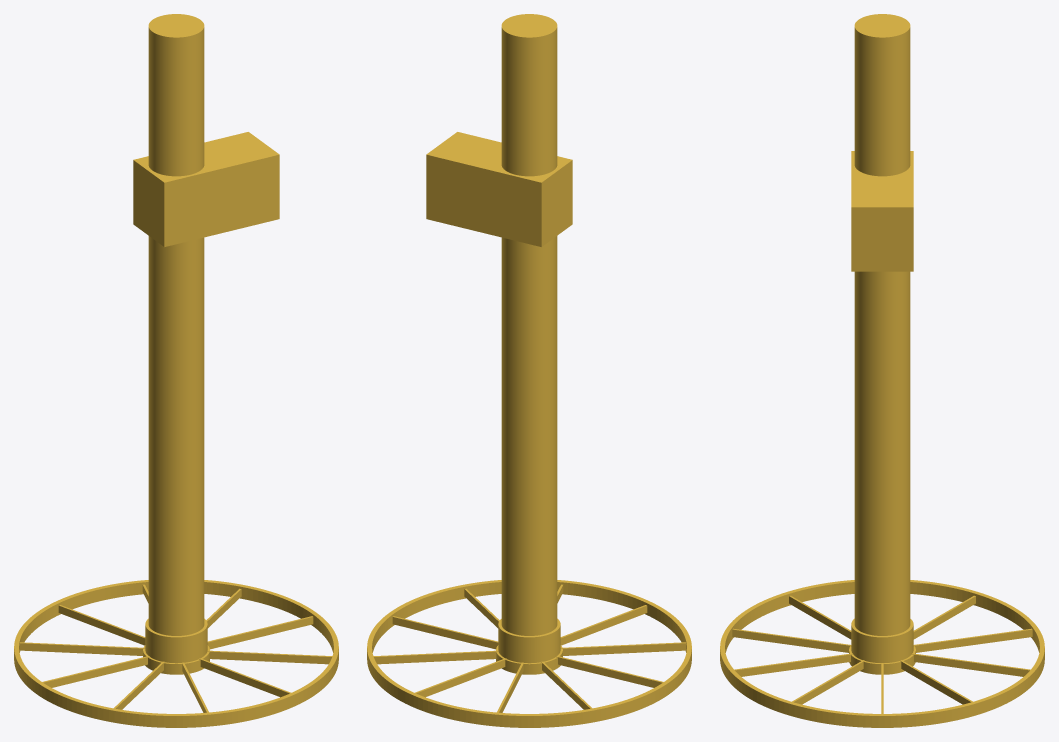
Rendered from telescope_lower.glb.
3 views of the same model, side by side, from view 1: azimuth 30°, elevation 25°; view 2: azimuth 150°, elevation 25°; view 3: azimuth 270°, elevation 25° (orthographic).
Visible parts, largest first — view 1: Cylinder; view 2: Cylinder; view 3: Cylinder.
Part boxes in pixels (bbox=[...]): Cylinder: bbox=[14, 14, 338, 727]; Cylinder: bbox=[367, 14, 691, 727]; Cylinder: bbox=[720, 14, 1044, 727].
Size of the model in its own units: 6.83 by 14.73 by 6.83.
